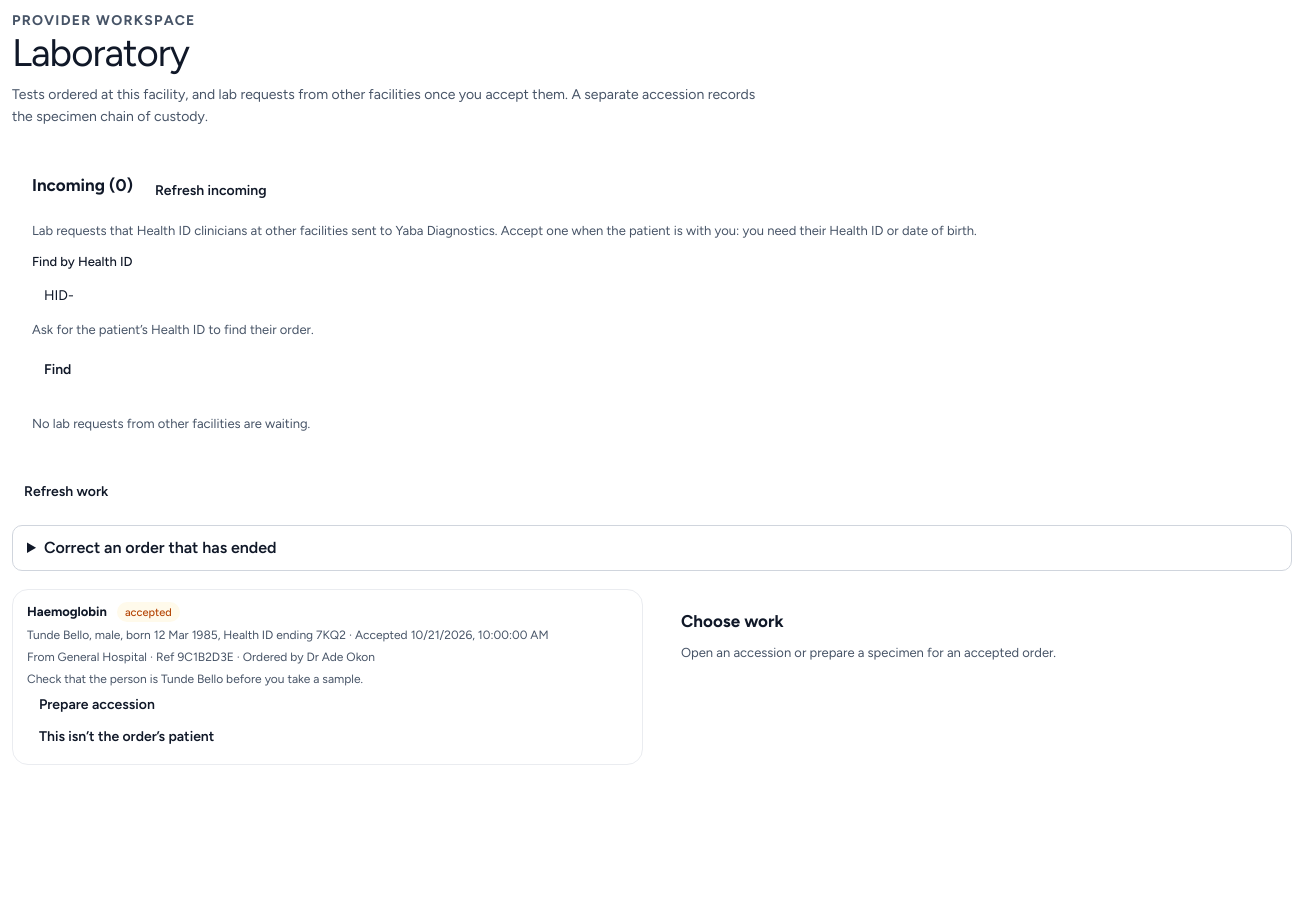
Test: the Laboratory page (Operations) › has focus on what the row says as soon as the list read again shows it
Expected: the text "Haemoglobin" is shown, [27, 602, 107, 622]
Click the button "This isn’t the order’s patient": x=127, y=736 [27, 720, 226, 752]
(page scrolled)
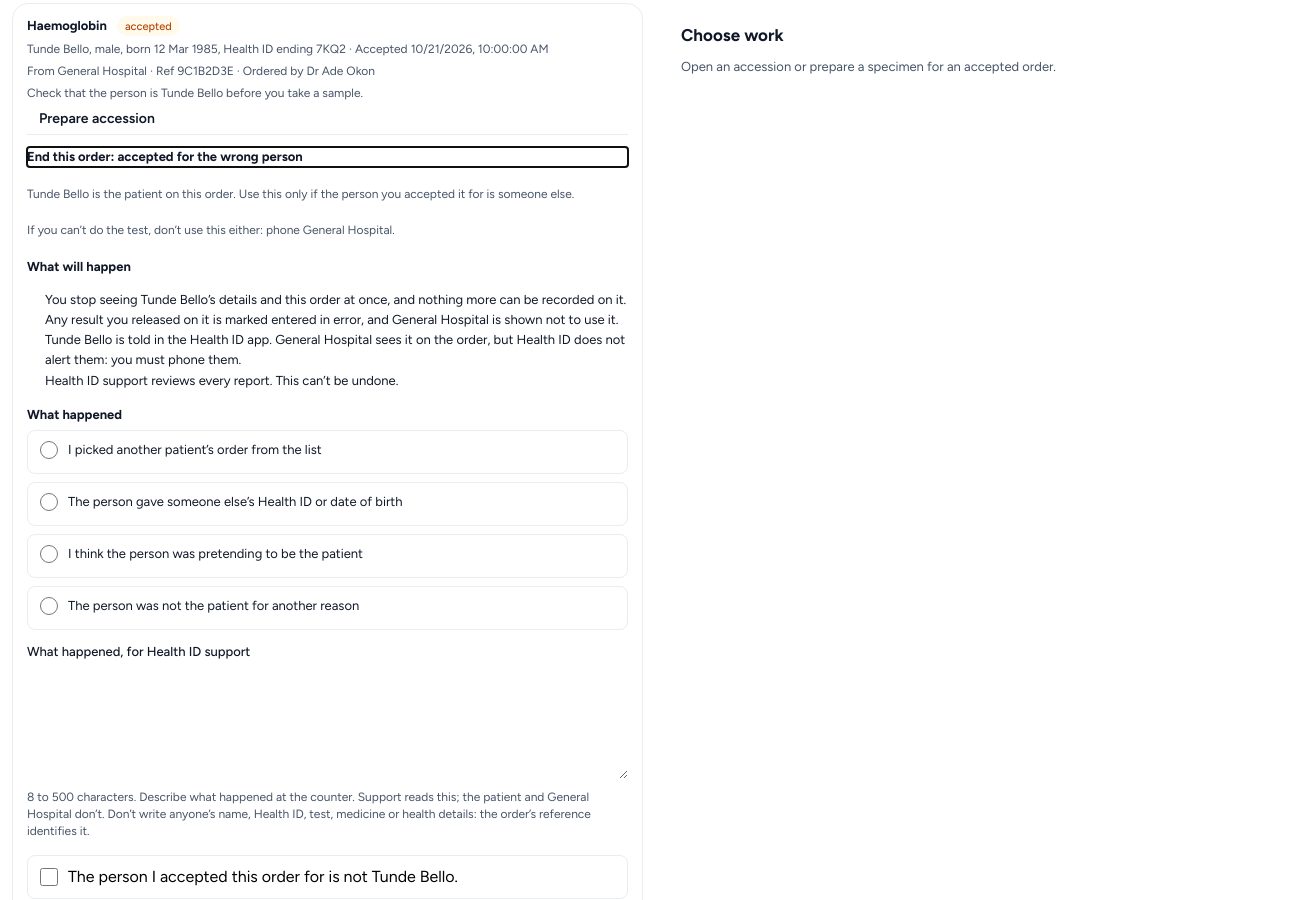
Click the radio button labelled "I picked another patient’s order from the list": x=49, y=450 [40, 441, 58, 459]
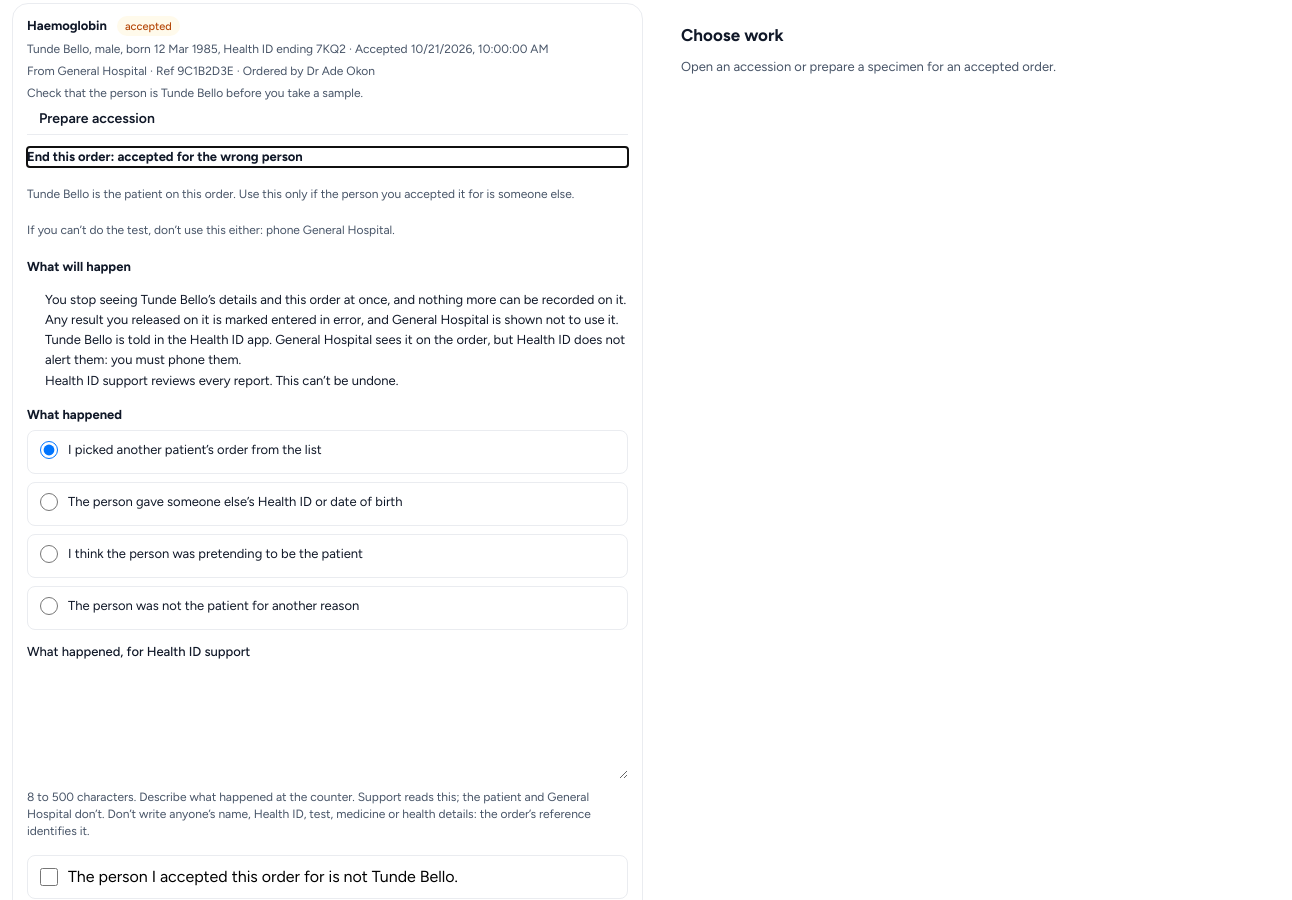
In the text box labelled "What happened, for Health ID support": x=328, y=722 [27, 666, 628, 778], type "Picked the wrong order"
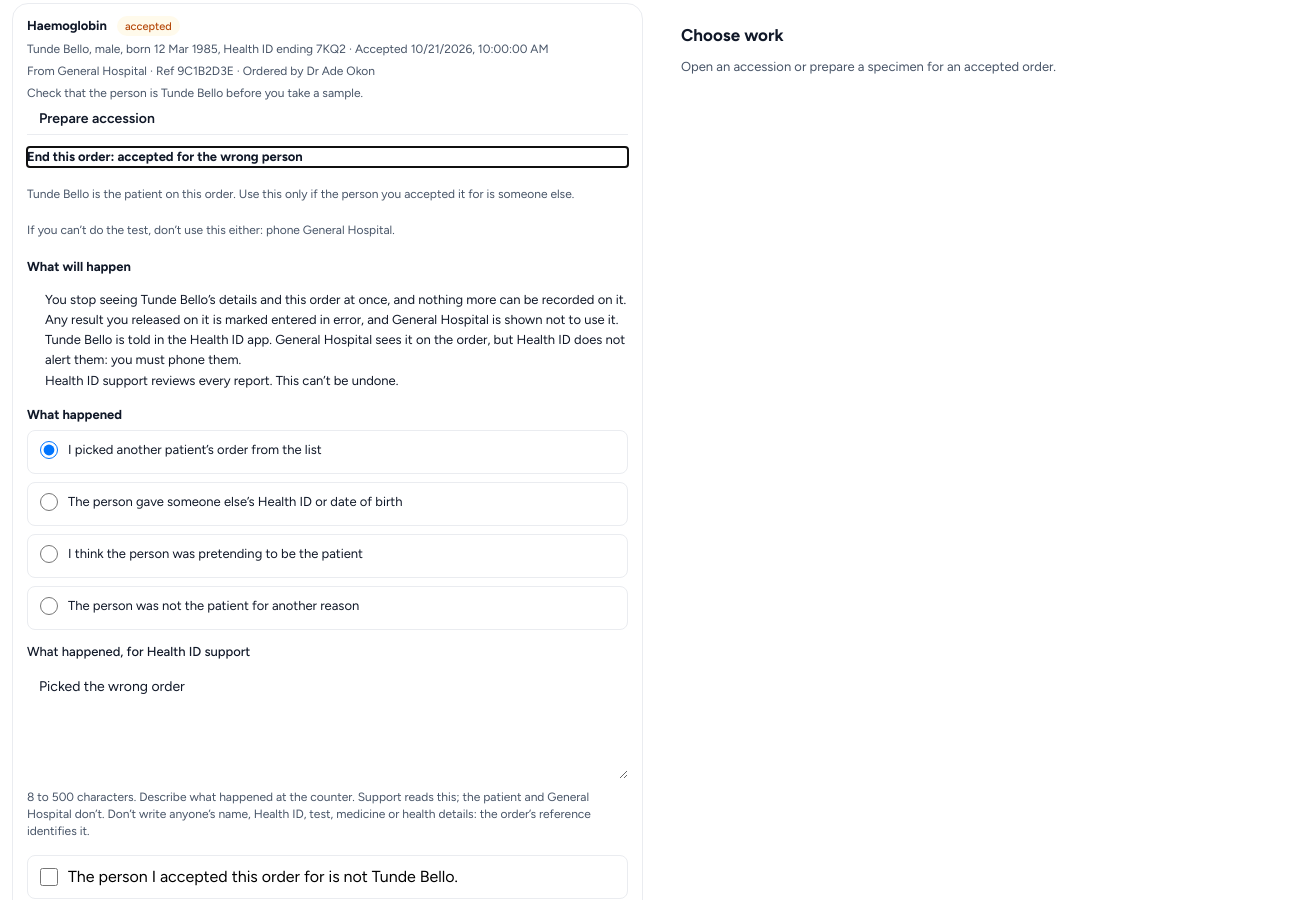
Click the checkbox labelled "The person I accepted this order for is not Tunde Bello.": x=49, y=877 [40, 868, 58, 886]
(page scrolled)
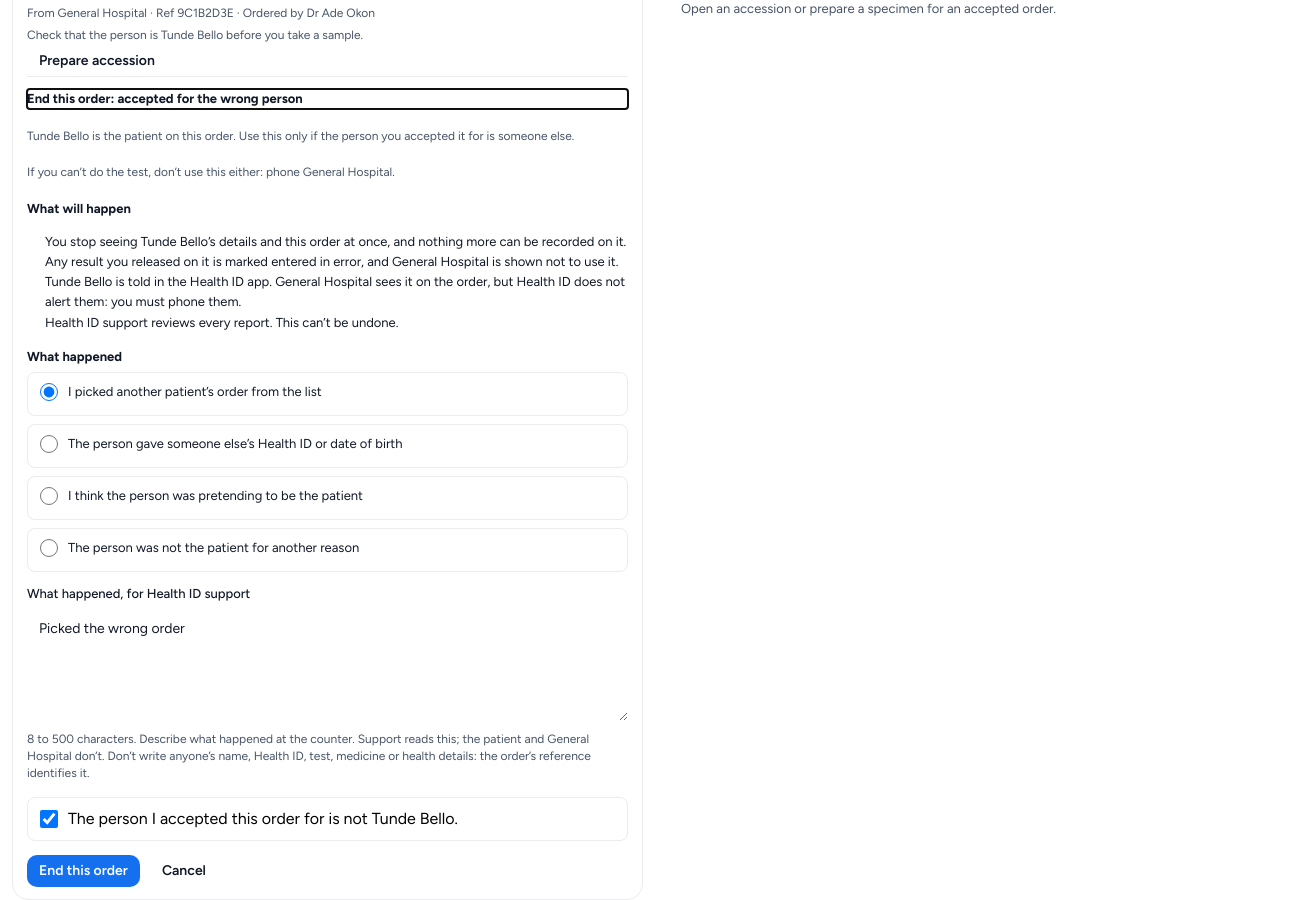
Click the button "End this order": x=83, y=871 [27, 855, 140, 887]
(page scrolled)
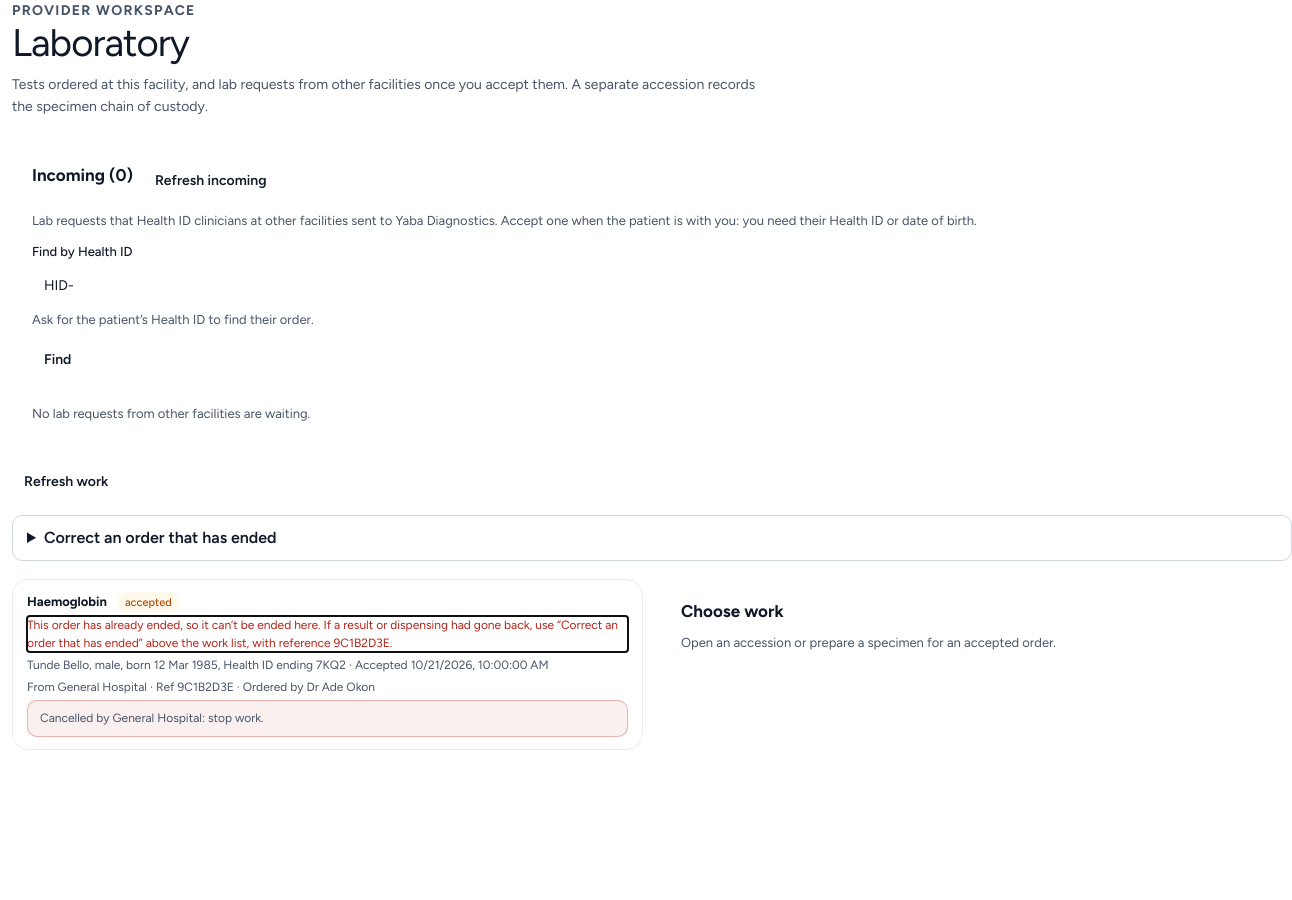
Expected: the message with id "lab-w-routed-said" shows "This order has already ended", [27, 618, 618, 650]
